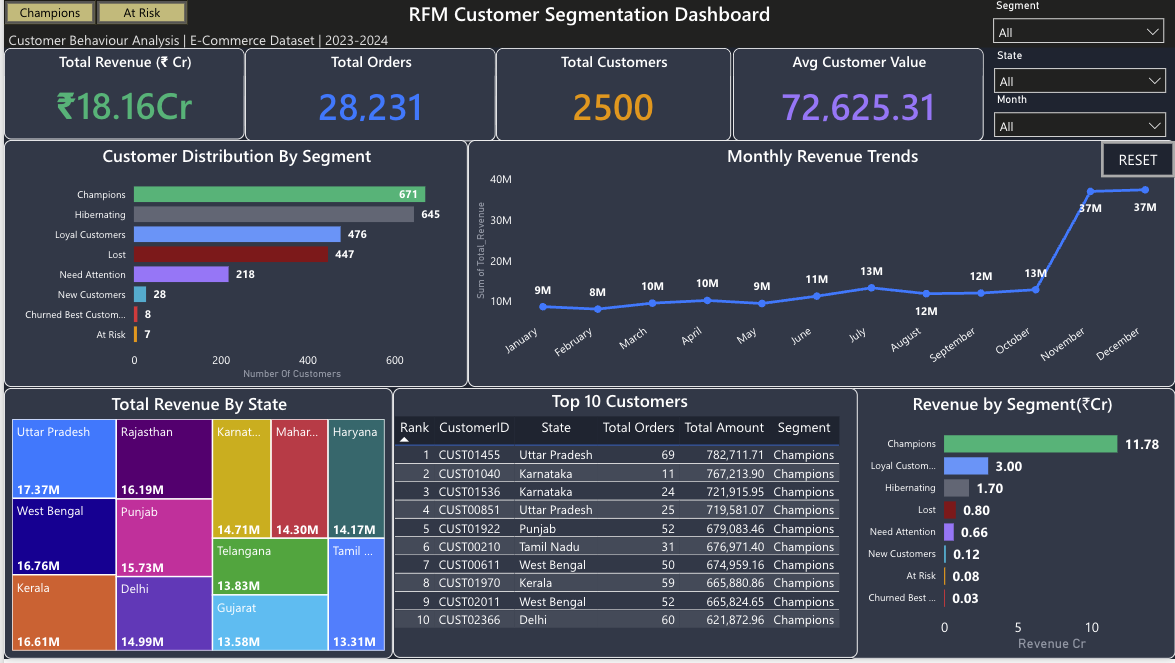

The page's visual inventory and layout, read from the dashboard file:
{"tool":"powerbi","page":{"name":"Page 1","canvas":[1280,720],"ordinal":0},"visuals":[{"type":"cardVisual","title":"Total Revenue (₹ Cr)","fields":{"Data":["rfm_master.Total Revenue Cr"]},"box":[0,52.1,263.4,100],"z":0},{"type":"cardVisual","title":"Total Customers","fields":{"Data":["Count(rfm_master.CustomerID)"]},"box":[537.9,52.1,256.6,101.5],"z":1000},{"type":"cardVisual","title":"Total Orders","fields":{"Data":["Sum(rfm_master.Frequency)"]},"box":[263.5,52.1,274.4,101.5],"z":2000},{"type":"cardVisual","title":"Avg Customer Value","fields":{"Data":["Avg(rfm_master.Monetary)"]},"box":[797.3,52.1,274.4,101.5],"z":3000},{"type":"clusteredBarChart","title":"Customer Distribution By Segment","fields":{"Category":["rfm_master.Segment"],"Y":["Count(rfm_master.CustomerID)"]},"box":[0,153.5,507,270],"z":4000},{"type":"clusteredBarChart","title":"Revenue by Segment(₹Cr)","fields":{"Category":["rfm_master.Segment"],"Y":["rfm_master.Revenue Cr"]},"box":[922.1,424,358.1,296.4],"z":5000},{"type":"lineChart","title":"Monthly Revenue Trends","fields":{"Category":["monthly_trends.Month.Variation.Date Hierarchy.Month"],"Y":["Sum(monthly_trends.Total_Revenue)"]},"box":[507,153.5,773.2,270.4],"z":6000},{"type":"tableEx","title":"Top 10 Customers","fields":{"Values":["rfm_master.Rank","rfm_master.CustomerID","rfm_master.State","Sum(rfm_master.Frequency)","Sum(rfm_master.Monetary)","rfm_master.Segment"]},"box":[425.4,424,507.7,295],"z":7000},{"type":"textbox","title":"RFM Customer Segmentation Dashboard","box":[0,0,1280,52.2],"z":8000},{"type":"slicer","title":"Segment","fields":{"Values":["rfm_master.Segment"]},"box":[1071.1,0,207.3,57],"z":9000},{"type":"slicer","title":"Segment","fields":{"Values":["rfm_master.State"]},"box":[1071.8,52.1,208.5,50.7],"z":10000},{"type":"slicer","title":"Segment","fields":{"Values":["monthly_trends.Month.Variation.Date Hierarchy.Month"]},"box":[1071.8,102.8,208.5,50.7],"z":11000},{"type":"actionButton","box":[1199.3,153.7,81,39.8],"z":12000},{"type":"treemap","title":"Total Revenue By State","fields":{"Group":["geographic_summary.State"],"Values":["Sum(geographic_summary.Total_Revenue)"]},"box":[0,424,425,296],"z":13000},{"type":"actionButton","box":[0,0,100.4,27.2],"z":14000},{"type":"actionButton","box":[100.4,0,100.4,27.2],"z":15000}]}

Visuals, with their boxes in screenshot pixels (x1, y1, x2, y2), scaled from the page's 1280x720 canvas onto the 1175x663 screenshot:
"Total Revenue (₹ Cr)" cardVisual: region(0, 48, 242, 140)
"Total Customers" cardVisual: region(494, 48, 729, 141)
"Total Orders" cardVisual: region(242, 48, 494, 141)
"Avg Customer Value" cardVisual: region(732, 48, 984, 141)
"Customer Distribution By Segment" clusteredBarChart: region(0, 141, 465, 390)
"Revenue by Segment(₹Cr)" clusteredBarChart: region(846, 390, 1174, 662)
"Monthly Revenue Trends" lineChart: region(465, 141, 1174, 390)
"Top 10 Customers" tableEx: region(391, 390, 857, 662)
"RFM Customer Segmentation Dashboard" textbox: region(0, 0, 1174, 48)
"Segment" slicer: region(983, 0, 1174, 52)
"Segment" slicer: region(984, 48, 1174, 95)
"Segment" slicer: region(984, 95, 1174, 141)
actionButton: region(1101, 142, 1174, 178)
"Total Revenue By State" treemap: region(0, 390, 390, 662)
actionButton: region(0, 0, 92, 25)
actionButton: region(92, 0, 184, 25)
